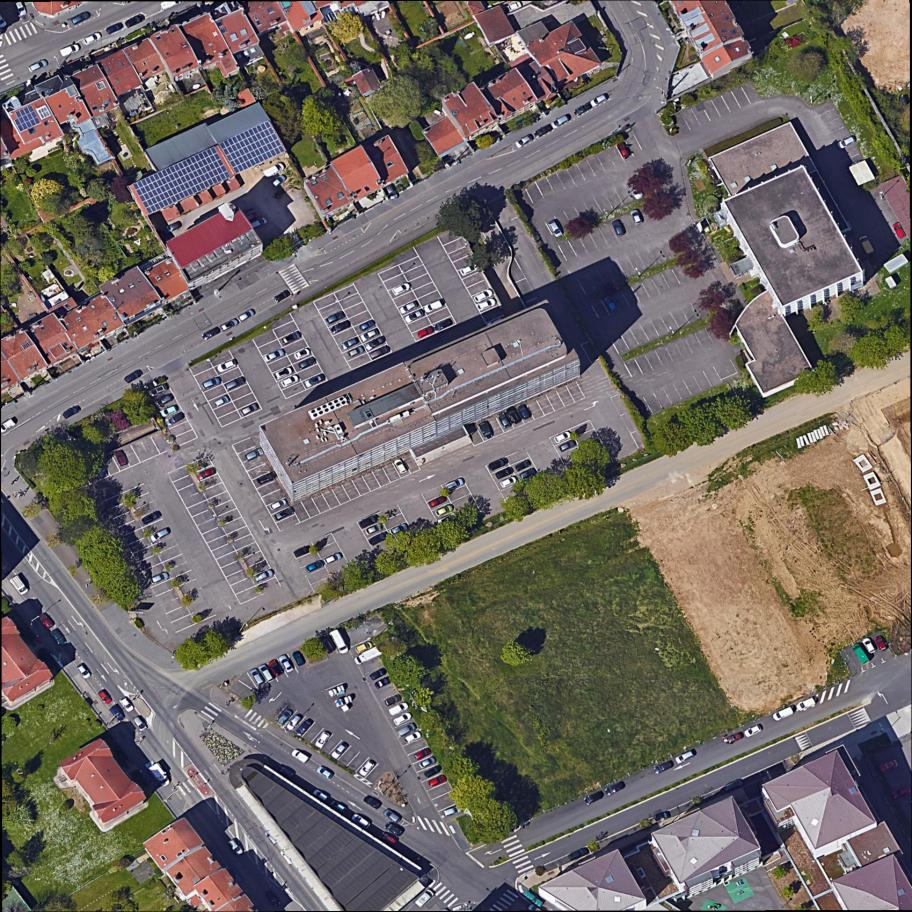large-vehicle: (145, 759, 174, 791), (327, 627, 352, 658), (849, 641, 872, 668), (412, 886, 436, 911)
small-vehicle: (352, 645, 383, 667), (259, 158, 286, 183), (8, 572, 31, 599), (349, 810, 374, 833), (565, 844, 592, 864), (382, 818, 406, 840), (329, 739, 351, 762), (857, 232, 877, 257), (147, 526, 172, 546), (302, 372, 328, 391), (602, 779, 628, 798), (267, 170, 289, 192), (376, 829, 399, 850), (361, 791, 384, 812), (327, 796, 350, 817), (255, 469, 280, 488), (367, 343, 392, 362), (107, 703, 128, 725), (477, 418, 497, 441), (276, 652, 296, 675), (835, 133, 859, 152), (550, 112, 574, 131), (223, 374, 247, 393), (471, 287, 495, 306), (475, 295, 499, 314), (403, 307, 427, 326), (794, 695, 818, 714), (195, 464, 219, 483), (357, 326, 382, 344), (771, 705, 796, 723), (651, 758, 676, 776), (381, 806, 403, 826), (289, 746, 311, 766), (49, 626, 69, 648), (37, 609, 57, 631), (312, 729, 332, 751), (293, 717, 313, 739), (513, 132, 536, 151), (396, 720, 419, 739), (263, 347, 287, 365), (279, 329, 303, 347), (421, 298, 445, 316), (389, 281, 413, 299), (363, 335, 387, 353), (386, 700, 410, 718), (875, 758, 900, 775), (382, 182, 402, 203), (357, 758, 377, 779), (275, 706, 295, 727), (615, 139, 634, 161), (610, 217, 629, 239), (244, 445, 266, 464), (264, 887, 283, 909), (313, 763, 335, 782), (551, 428, 574, 446), (547, 218, 565, 241), (122, 368, 145, 386), (303, 557, 326, 575), (457, 261, 480, 279), (278, 373, 301, 391), (199, 325, 222, 343), (432, 316, 455, 334), (398, 298, 421, 316), (324, 309, 347, 327), (673, 748, 696, 766), (253, 567, 276, 585), (391, 710, 414, 728), (486, 456, 510, 473), (215, 358, 239, 375), (226, 837, 245, 858), (118, 694, 137, 715), (601, 293, 619, 315), (27, 58, 49, 76), (70, 9, 92, 27), (61, 402, 83, 420), (860, 635, 878, 657), (258, 663, 276, 685), (141, 509, 163, 527), (357, 514, 380, 531), (363, 521, 386, 538), (367, 530, 390, 547), (58, 42, 81, 59), (330, 318, 353, 335), (147, 382, 170, 399), (148, 570, 171, 587), (582, 790, 606, 806), (890, 220, 908, 241), (742, 722, 763, 740), (310, 786, 331, 804), (319, 633, 337, 654), (75, 662, 93, 683), (248, 666, 266, 687), (497, 474, 519, 491), (82, 31, 104, 48), (158, 402, 180, 419), (723, 729, 745, 746), (427, 772, 449, 789), (373, 674, 395, 691), (368, 665, 390, 682), (443, 476, 466, 492), (162, 218, 185, 234), (353, 638, 376, 654), (516, 402, 534, 422), (627, 183, 645, 203), (131, 714, 149, 734), (290, 648, 308, 668), (284, 712, 302, 732), (588, 92, 609, 109), (534, 122, 555, 139), (273, 365, 294, 382), (494, 465, 516, 481), (267, 497, 289, 513), (273, 507, 295, 523), (388, 522, 410, 538), (434, 502, 456, 518), (427, 493, 449, 509), (296, 355, 318, 371), (201, 375, 223, 391), (415, 325, 437, 341), (723, 777, 745, 793), (412, 746, 434, 762), (417, 755, 439, 771), (125, 14, 147, 30), (392, 457, 410, 476), (497, 411, 514, 431), (629, 207, 646, 227), (220, 316, 240, 333), (236, 307, 256, 324), (271, 288, 291, 305), (97, 687, 114, 707), (557, 438, 578, 454), (114, 447, 130, 468), (422, 763, 443, 779), (323, 551, 345, 566), (13, 0, 30, 19), (572, 102, 592, 118), (518, 466, 538, 482), (105, 20, 125, 36), (340, 336, 360, 352), (873, 633, 889, 653), (384, 692, 404, 708), (239, 402, 260, 417), (167, 410, 186, 426), (291, 347, 311, 362), (357, 318, 377, 333), (346, 344, 366, 359), (293, 544, 313, 559), (403, 729, 423, 744), (442, 804, 463, 818), (213, 394, 231, 409), (249, 215, 267, 230), (504, 0, 523, 14), (514, 459, 533, 473), (653, 810, 673, 822)
